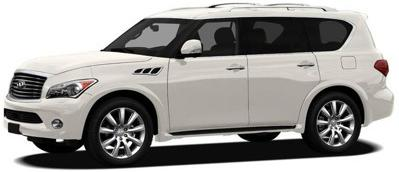backlight: (373, 58, 391, 78)
front_view: (1, 66, 97, 141)
headlight: (44, 77, 98, 102)
side_glass: (169, 15, 354, 59)
